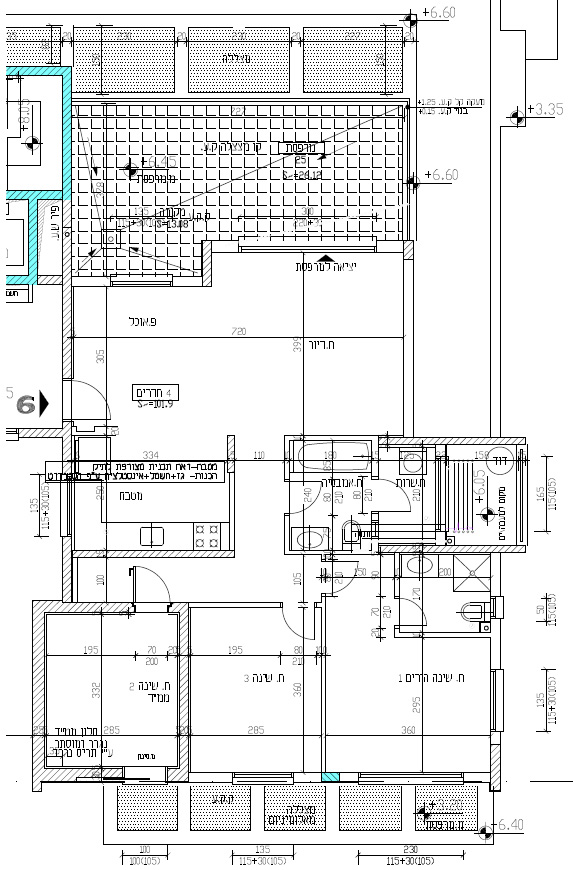door: (77, 379, 116, 423), (128, 562, 172, 598), (380, 479, 415, 516), (279, 617, 323, 645), (402, 592, 432, 627), (339, 557, 365, 592)
wall: (178, 605, 191, 761), (31, 602, 45, 733), (63, 72, 72, 195), (63, 202, 69, 368), (389, 437, 526, 444), (27, 193, 37, 281), (436, 546, 524, 552), (491, 744, 501, 787), (203, 244, 211, 289)
window: (238, 242, 377, 256), (356, 768, 467, 781), (107, 276, 173, 290), (486, 666, 499, 733), (233, 769, 295, 778)
